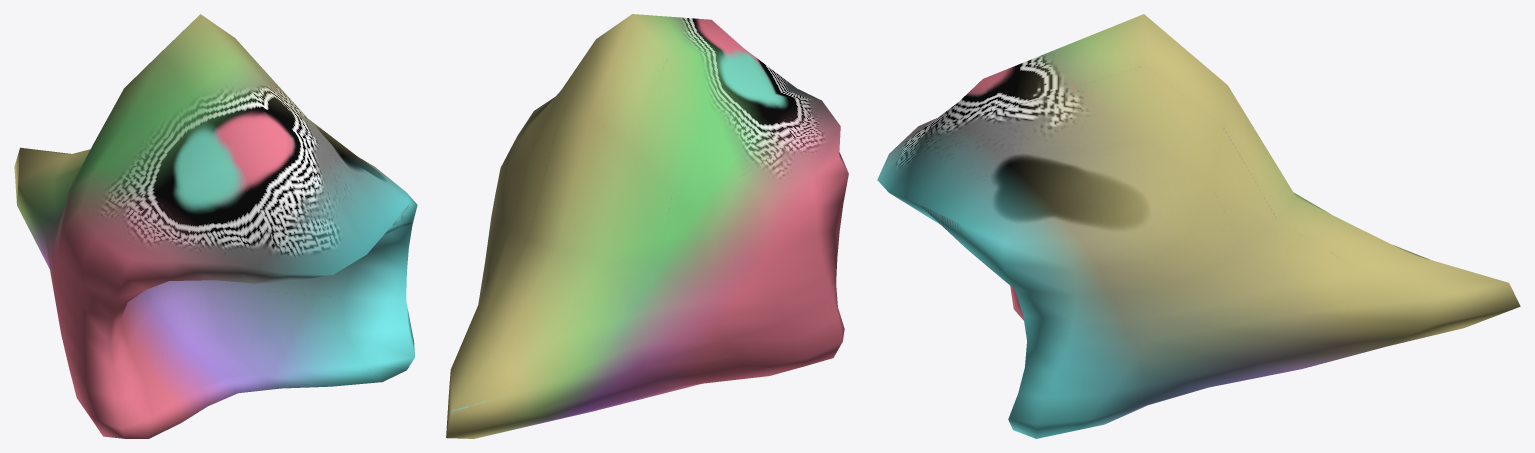
Rendered from MageHame.FBX.
The picture shows the model from 3 angles, left to right: view 1: azimuth 30°, elevation 25°; view 2: azimuth 150°, elevation 25°; view 3: azimuth 270°, elevation 25°; orthographic projection.
Parts seen in each view (by area): view 1: Box004; view 2: Box004; view 3: Box004.
Boxes of the visible parts, <box> form: Box004: <box>14,14,417,438</box>; Box004: <box>446,14,848,438</box>; Box004: <box>877,14,1520,438</box>.
Bounding box in the file's own units: 227 × 239 × 391.
